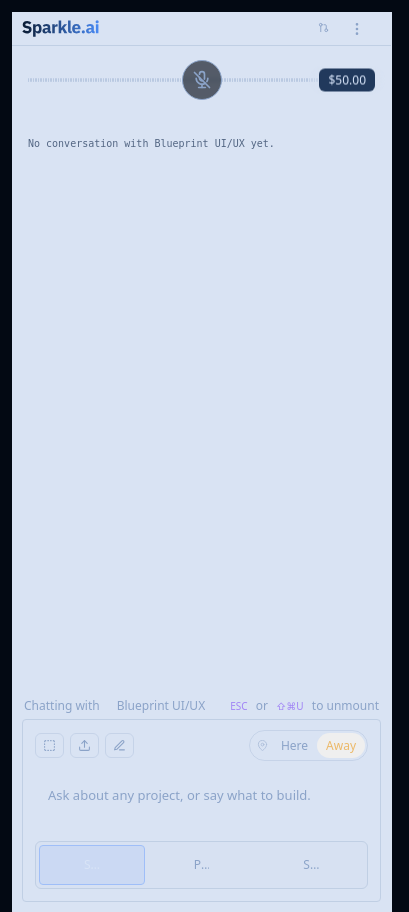
Test: ConciergeHost — a terminal that must not receive free text refuses › QUEUES a destructive mounted send while away, rather than sending it
Type "run the deploy command" into the text box named "Message" at (202, 804), box [35,775,368,833]
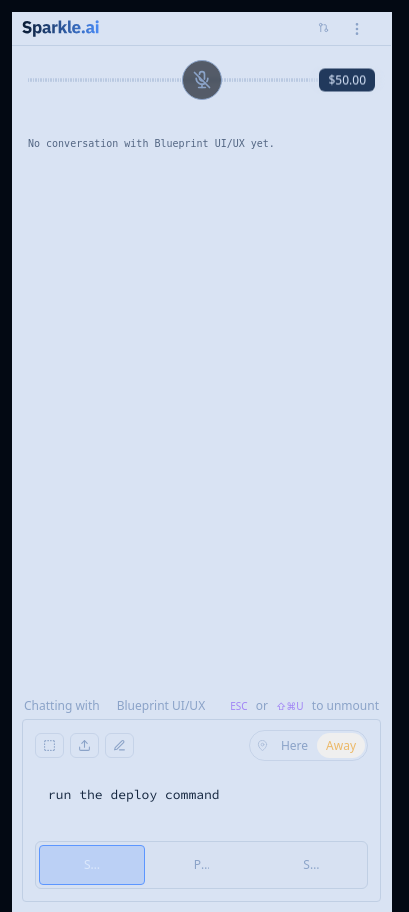
Click the button "Send" at (92, 865), box [39,845,145,885]
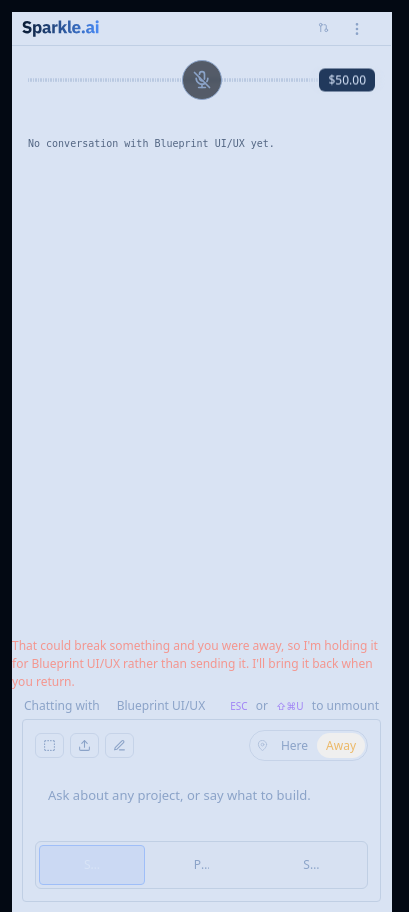
Now the message with test id "mounted-notice" shows "holding it", box [12,637,378,690]
